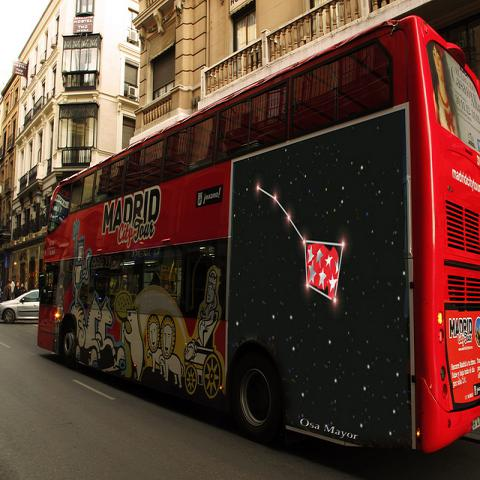bus: (37, 14, 476, 466)
car: (1, 289, 38, 324)
